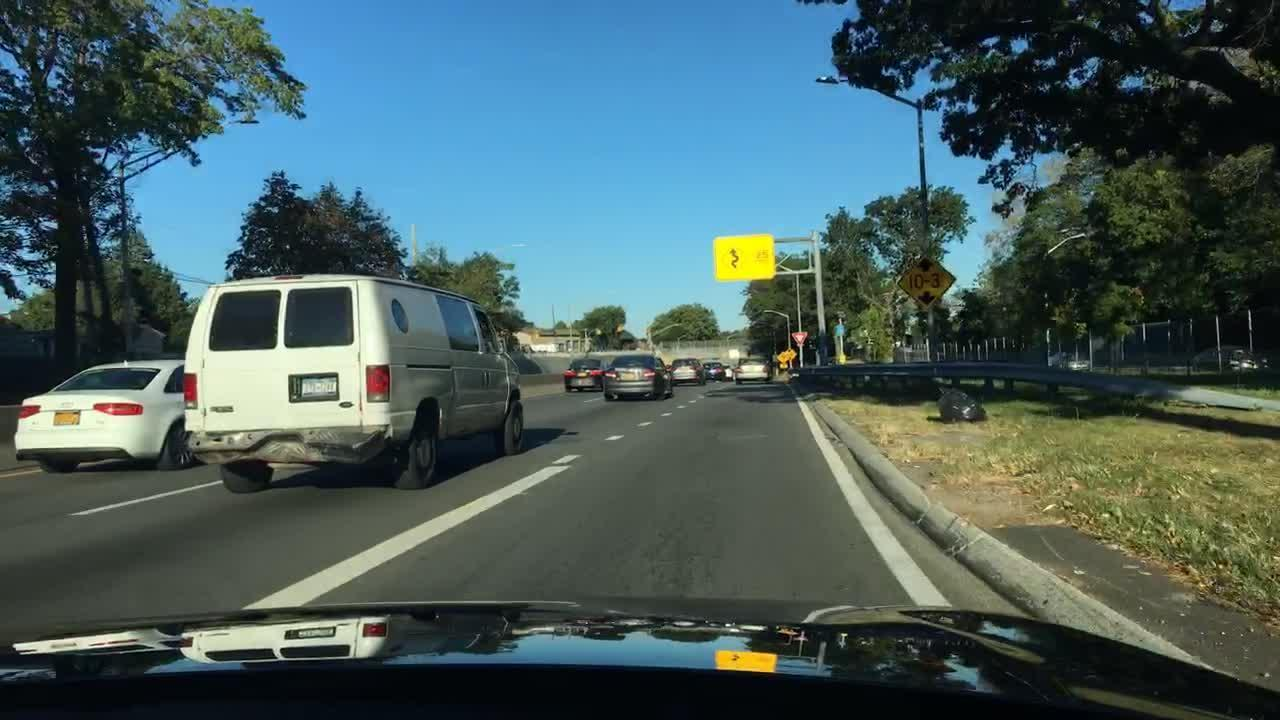Audi: (55, 396, 78, 409)
